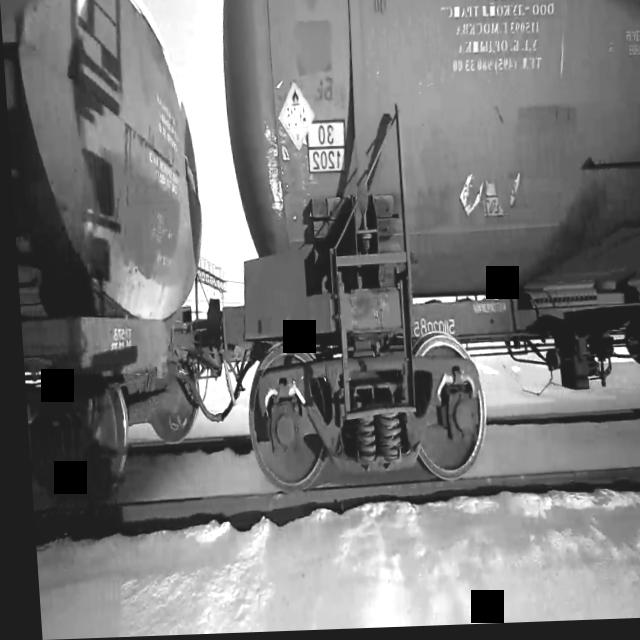tank: (188, 0, 640, 502), (0, 0, 223, 530)
